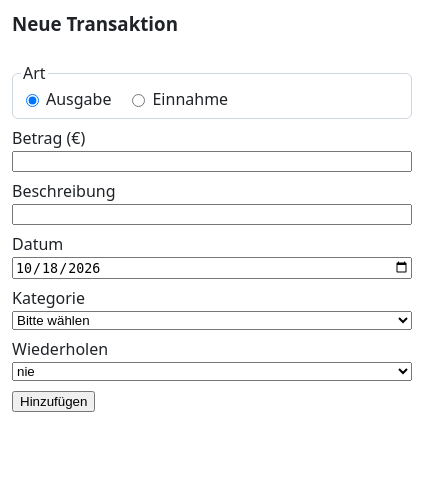
Test: TransactionForm › rejects a non-positive amount -5
Type "-5" into the field labelled "Betrag (€)" at (212, 162), box [12,151,412,172]
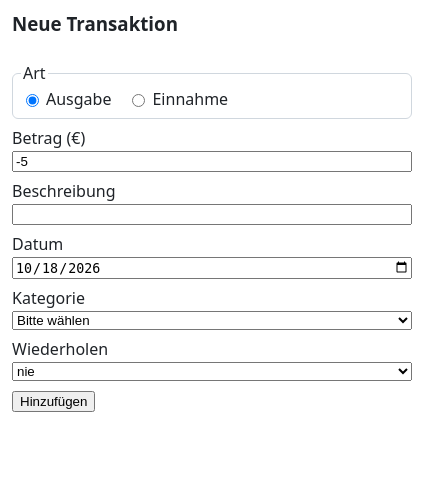
Click the button "Hinzufügen" at (54, 401), box [12,391,95,412]
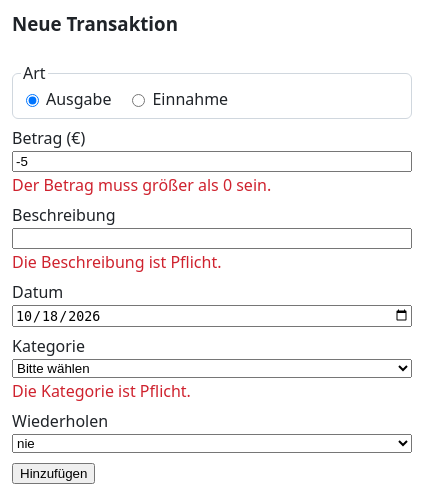
Now the text "Der Betrag muss größer als 0 sein." is shown, box [12,174,271,196]
